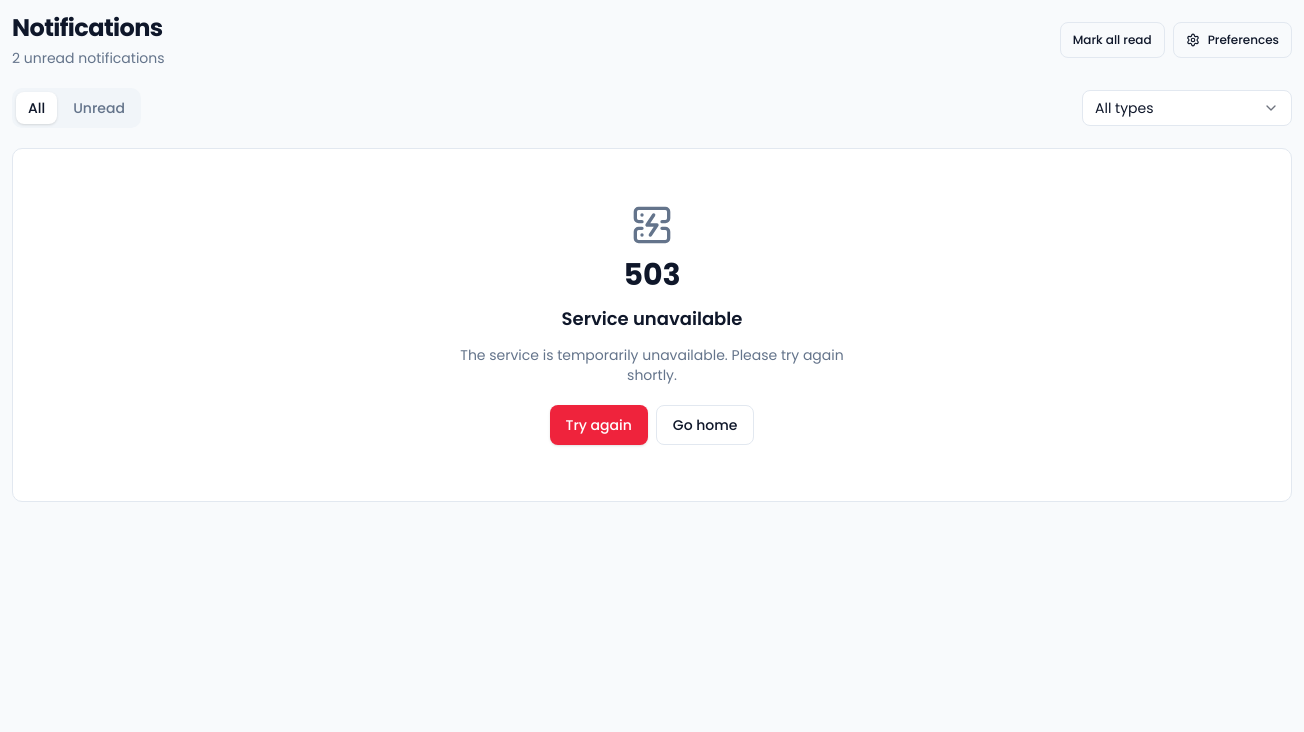
Test: Notifications page › shows an error with retry
Click the button "Try again".
click(599, 425)  # box x1=550 y1=405 x2=648 y2=445
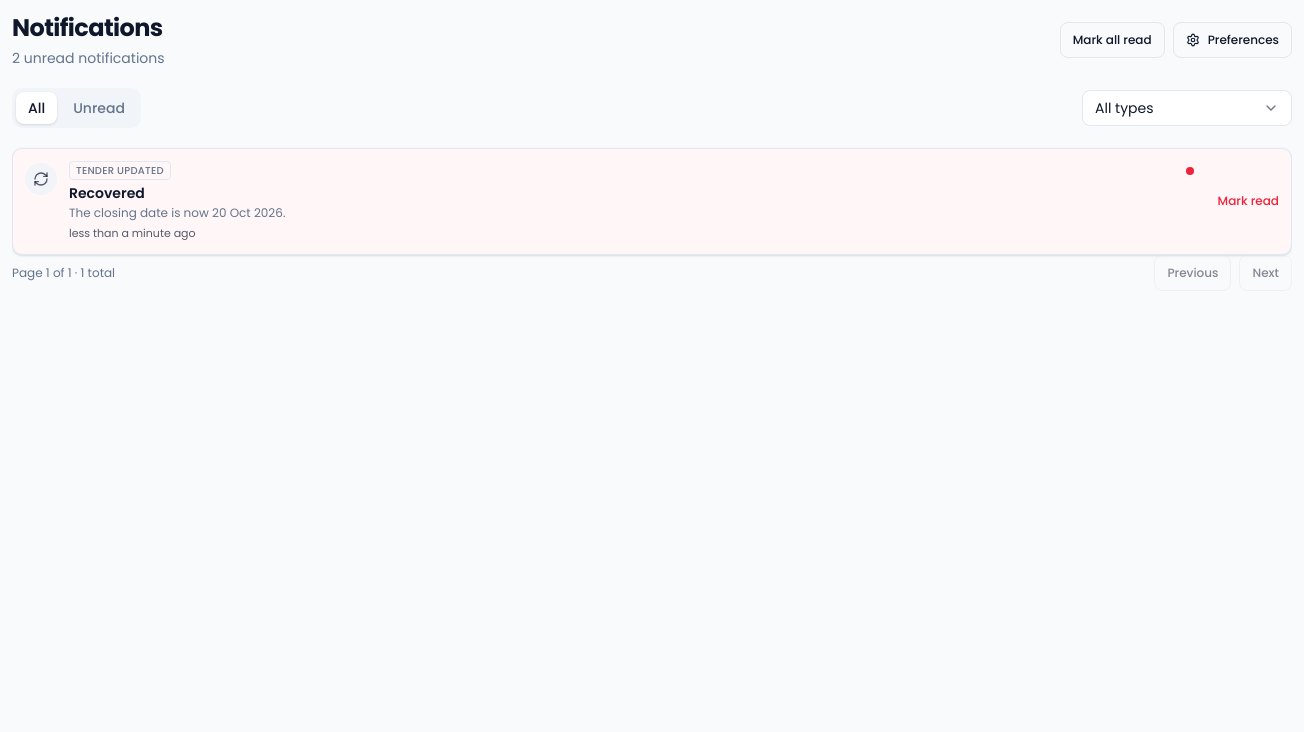
expect the text "Recovered" is shown: met, box x1=69 y1=183 x2=145 y2=203
